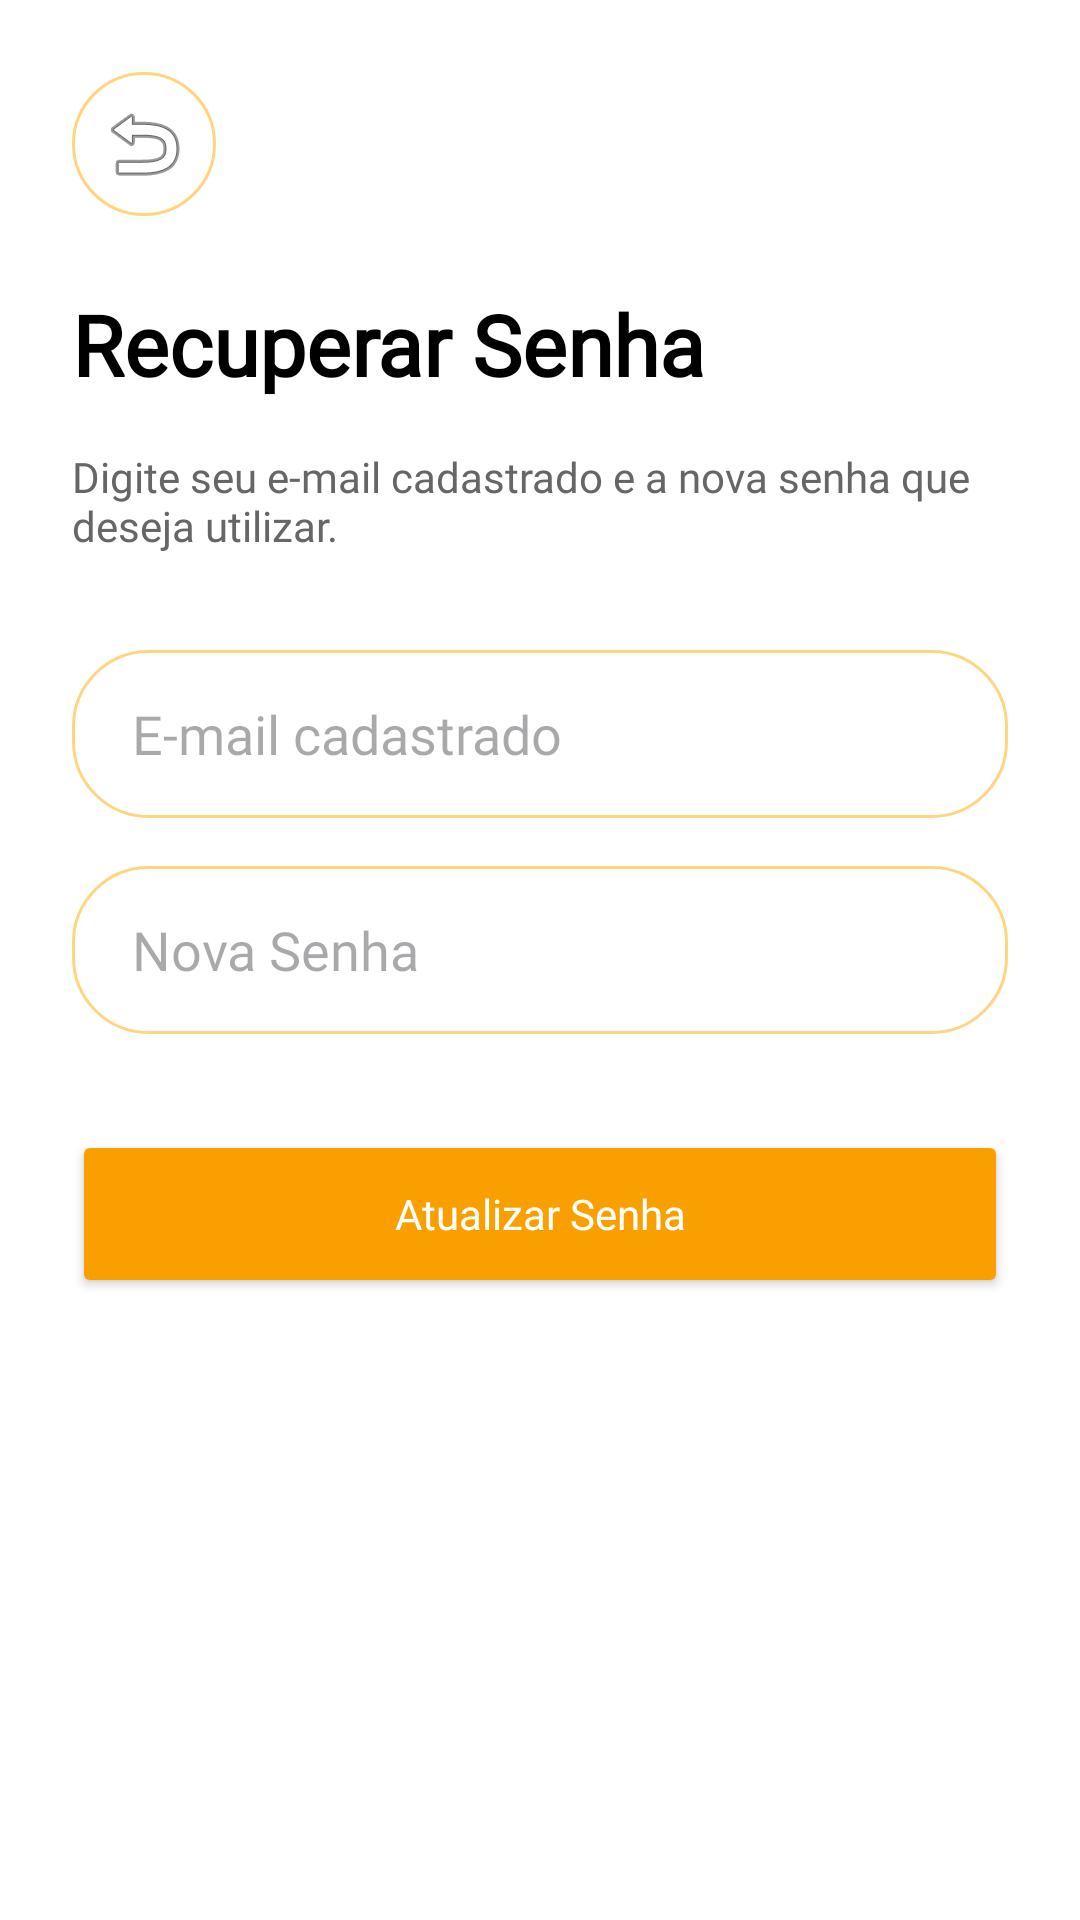

Locate icon controls on the screen. Image size 1080 × 1920, boxes as box=[x1, y1, x2, y2].
revert: box=[72, 72, 216, 216]
